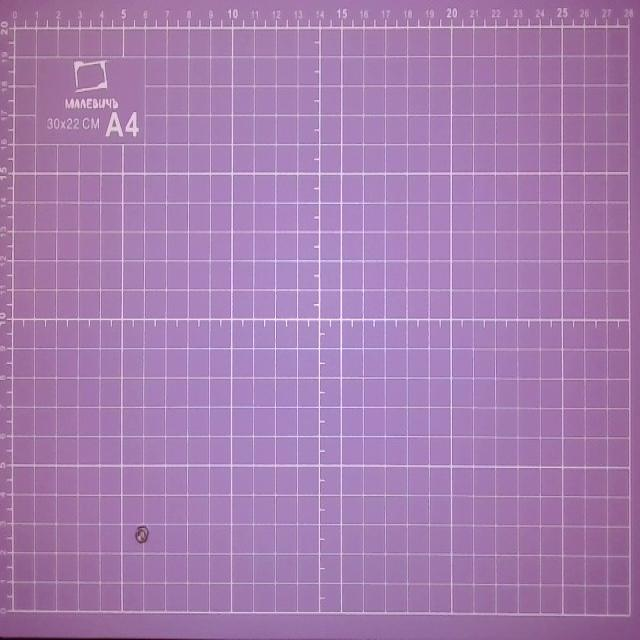screw_M3: (130, 526, 150, 545)
